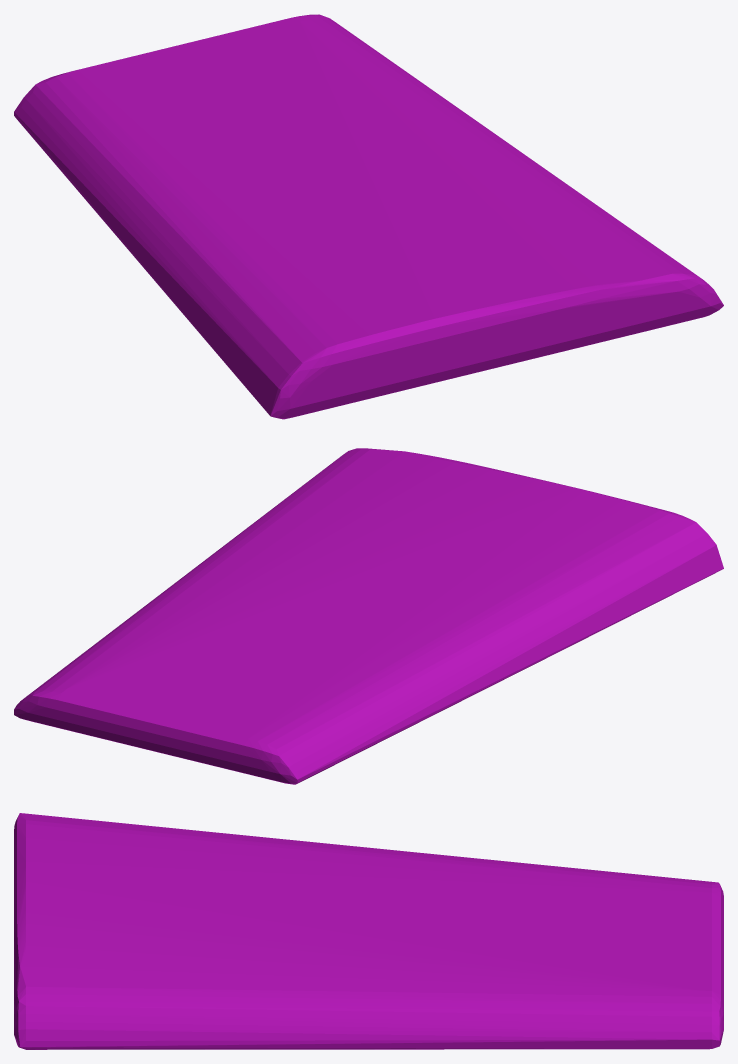
The model's file is left_hip_pitch_link_part_22.obj.
3 views of the same model, one above another, from view 1: azimuth 30°, elevation 25°; view 2: azimuth 150°, elevation 25°; view 3: azimuth 270°, elevation 25° (orthographic). The views are drawn at different scales.
Size of the model in its own units: 0.0887 by 0.0121 by 0.129.
